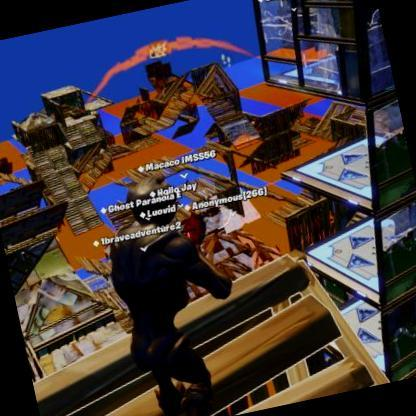person: (182, 177, 190, 187)
